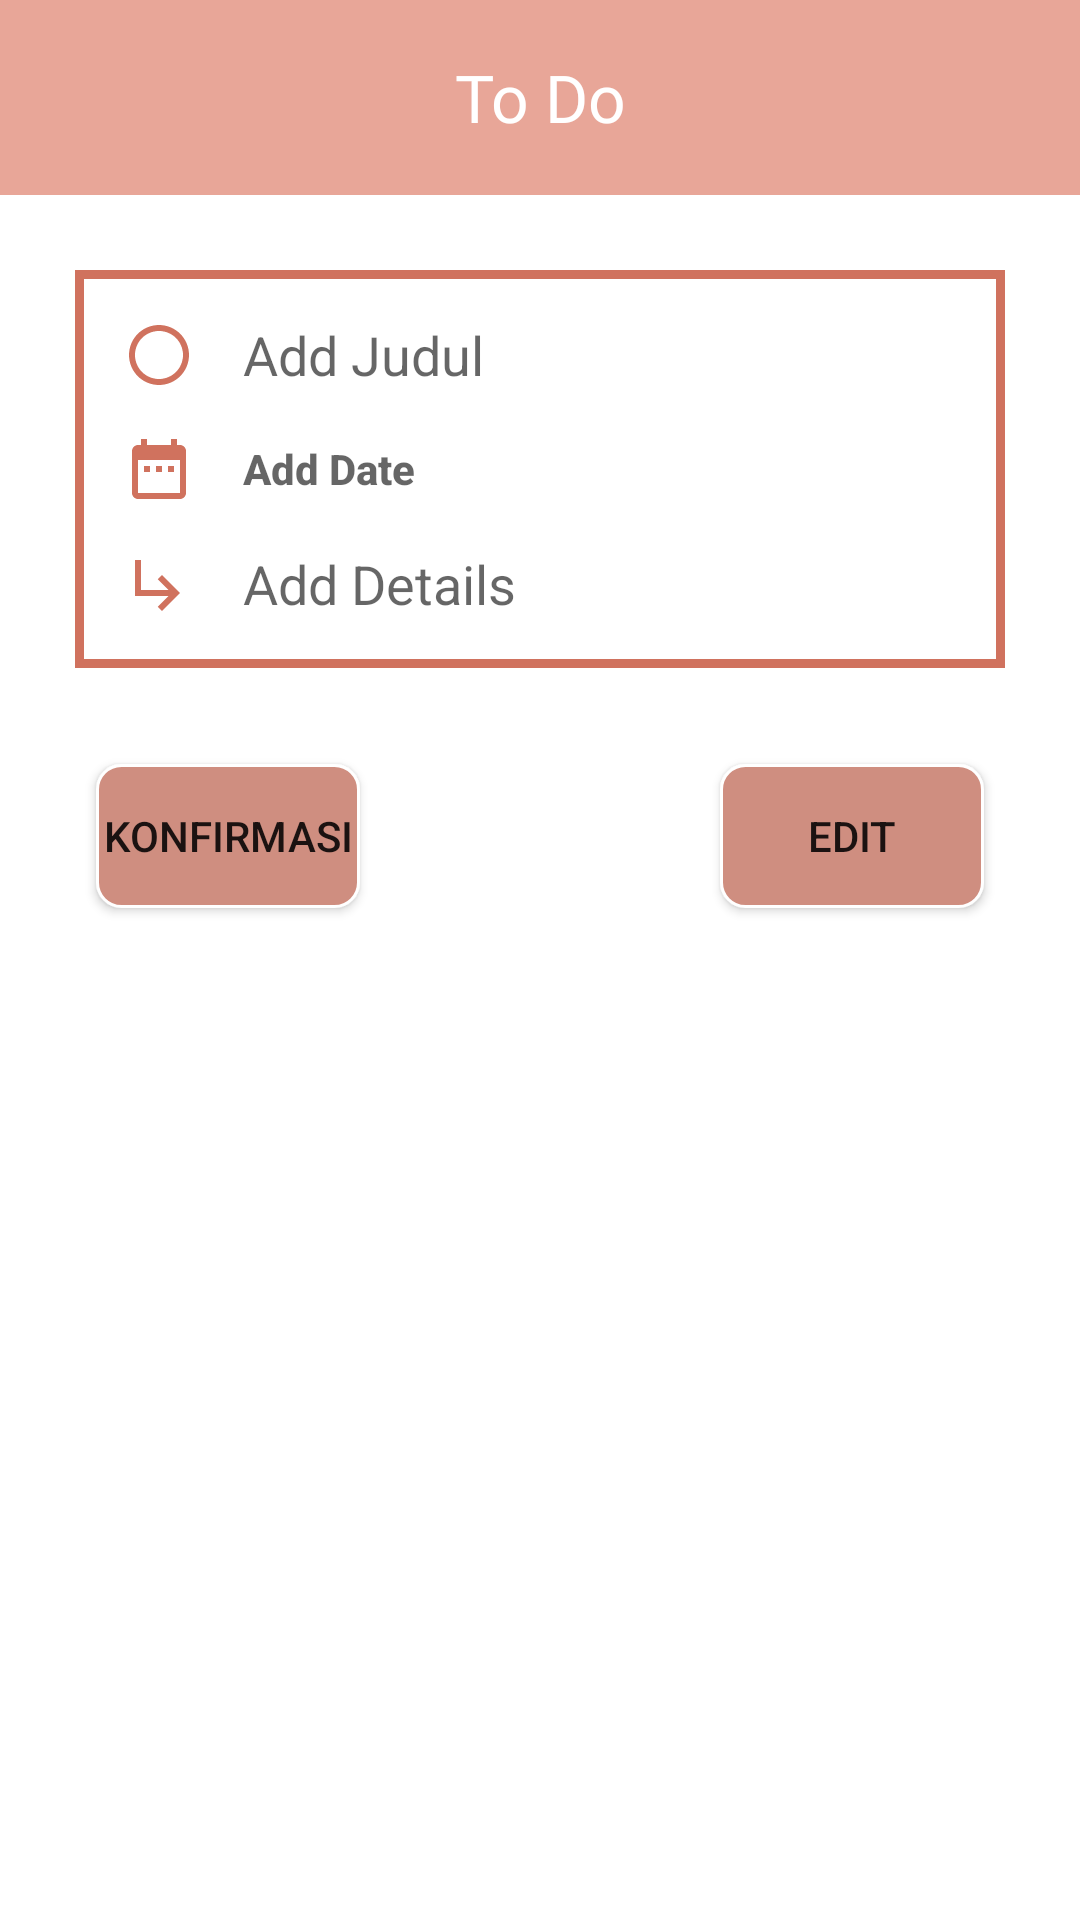

Icon bounding boxes for this 1080×1920 phone screenshot, format [left=x1, top=y1, right=x2, bottom=y2]:
calender: [left=132, top=439, right=186, bottom=499]
